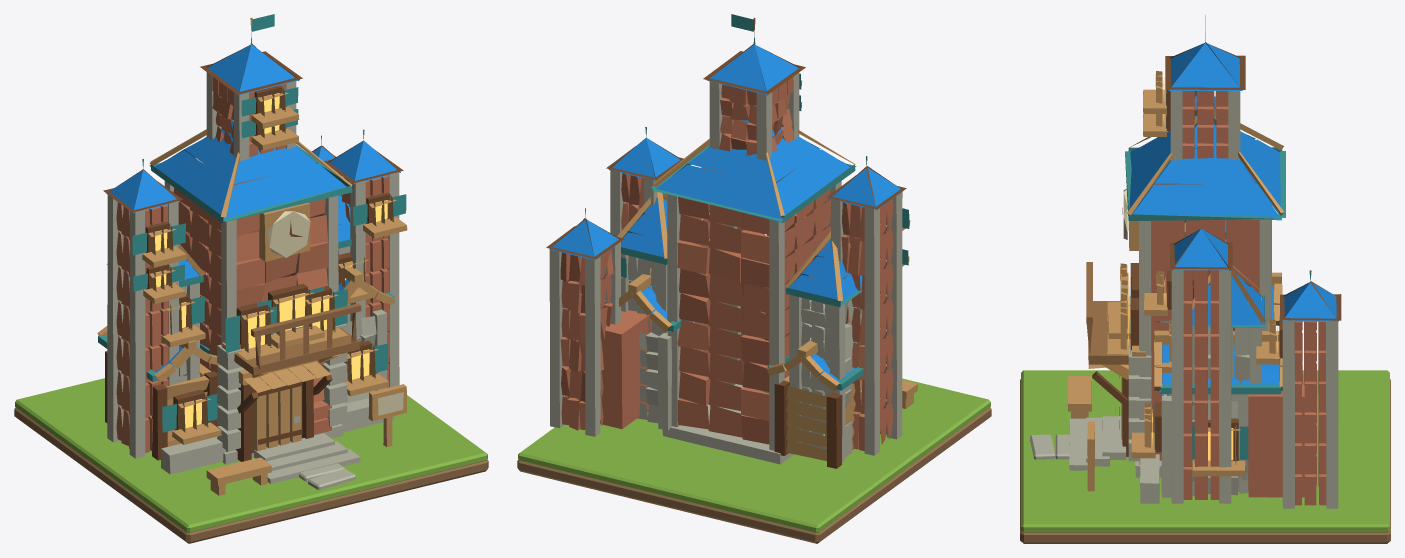
File: town_hall_l12_active_LOD2.glb
The picture shows the model from 3 angles, left to right: view 1: azimuth 30°, elevation 25°; view 2: azimuth 150°, elevation 25°; view 3: azimuth 270°, elevation 25°; orthographic projection. The views are drawn at different scales.
Visible parts, largest first — view 1: town_hall_l12_active_foundation.001, town_hall_l12_active_grass_tile.001, town_hall_l12_active_earth_tile.001, town_hall_l12_active_path_stone.005; view 2: town_hall_l12_active_foundation.001, town_hall_l12_active_grass_tile.001, town_hall_l12_active_earth_tile.001; view 3: town_hall_l12_active_foundation.001, town_hall_l12_active_grass_tile.001, town_hall_l12_active_earth_tile.001, town_hall_l12_active_path_stone.005.
Boxes of the visible parts, x1,y1,x2,y2 form: town_hall_l12_active_foundation.001: (97,14,407,495); town_hall_l12_active_grass_tile.001: (15,378,487,532); town_hall_l12_active_earth_tile.001: (14,407,488,543); town_hall_l12_active_path_stone.005: (308,469,355,489); town_hall_l12_active_foundation.001: (546,14,917,468); town_hall_l12_active_grass_tile.001: (518,378,990,532); town_hall_l12_active_earth_tile.001: (517,407,991,543); town_hall_l12_active_foundation.001: (1068,15,1341,508); town_hall_l12_active_grass_tile.001: (1021,370,1389,532); town_hall_l12_active_earth_tile.001: (1020,379,1390,543); town_hall_l12_active_path_stone.005: (1030,434,1055,459).
Size of the model in its own units: 3.6 by 4.85 by 3.6.
